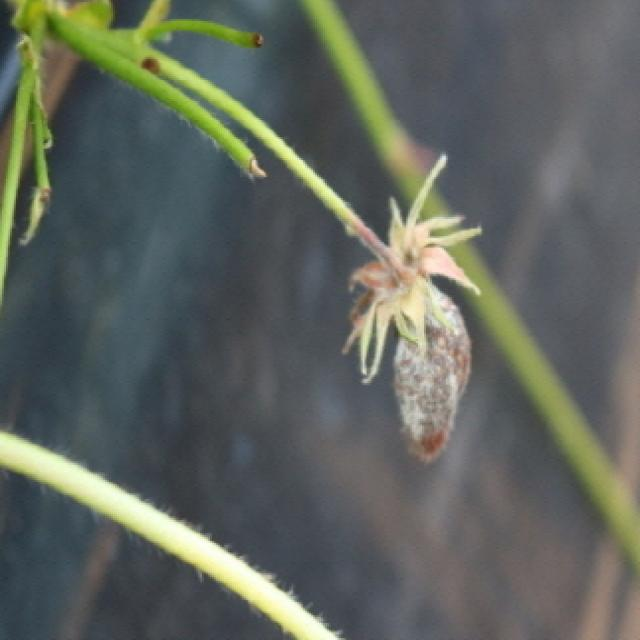Gray Mold: (338, 156, 486, 462)
